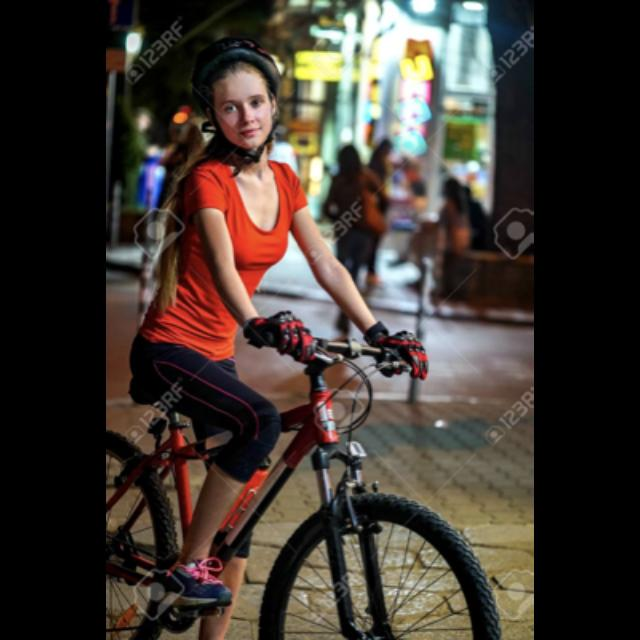With Helmet: (178, 38, 294, 166)
